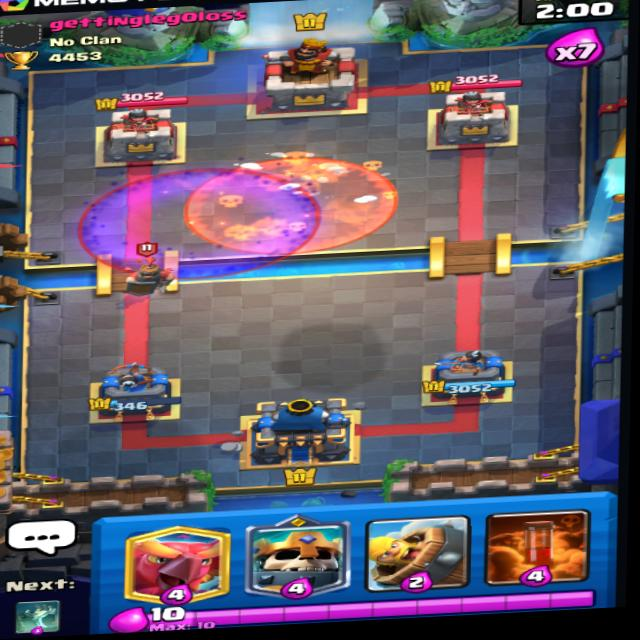Graveyard: (81, 159, 323, 281)
Poison: (185, 146, 390, 257)
Royalrecruits: (120, 241, 178, 298)
